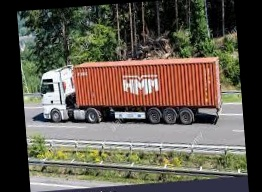truck: (39, 53, 224, 135)
